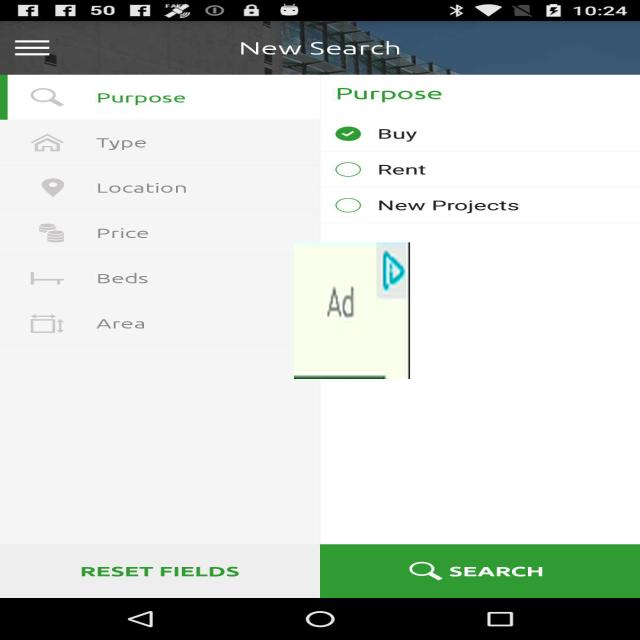sneaking: (294, 242, 410, 379)
